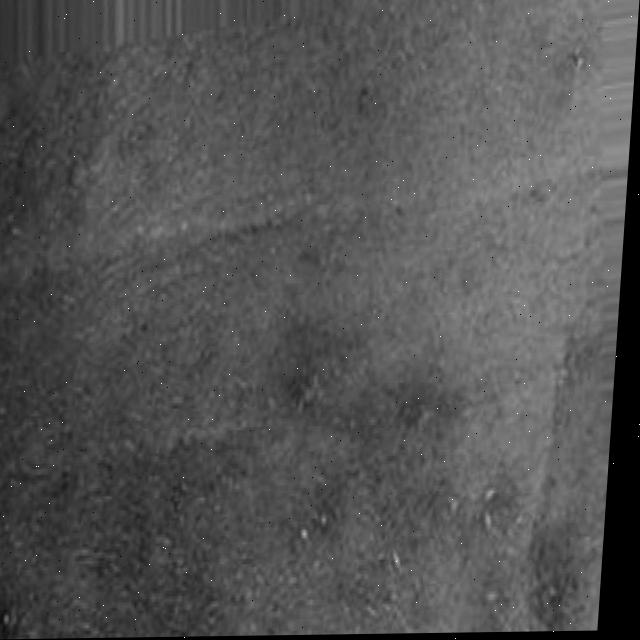Rosacea: (0, 305, 590, 640)
